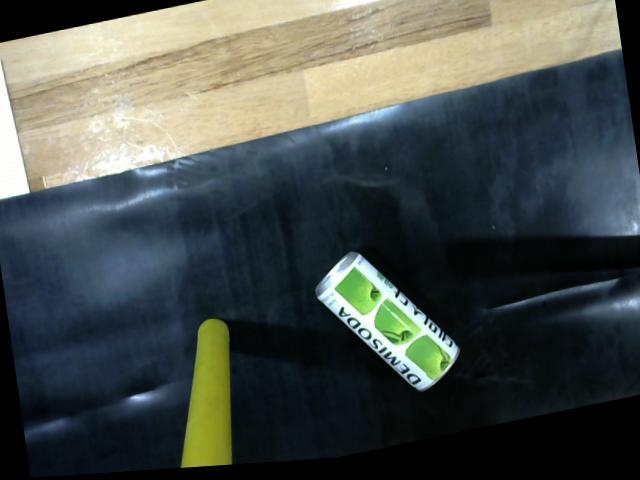can: (307, 246, 472, 408)
